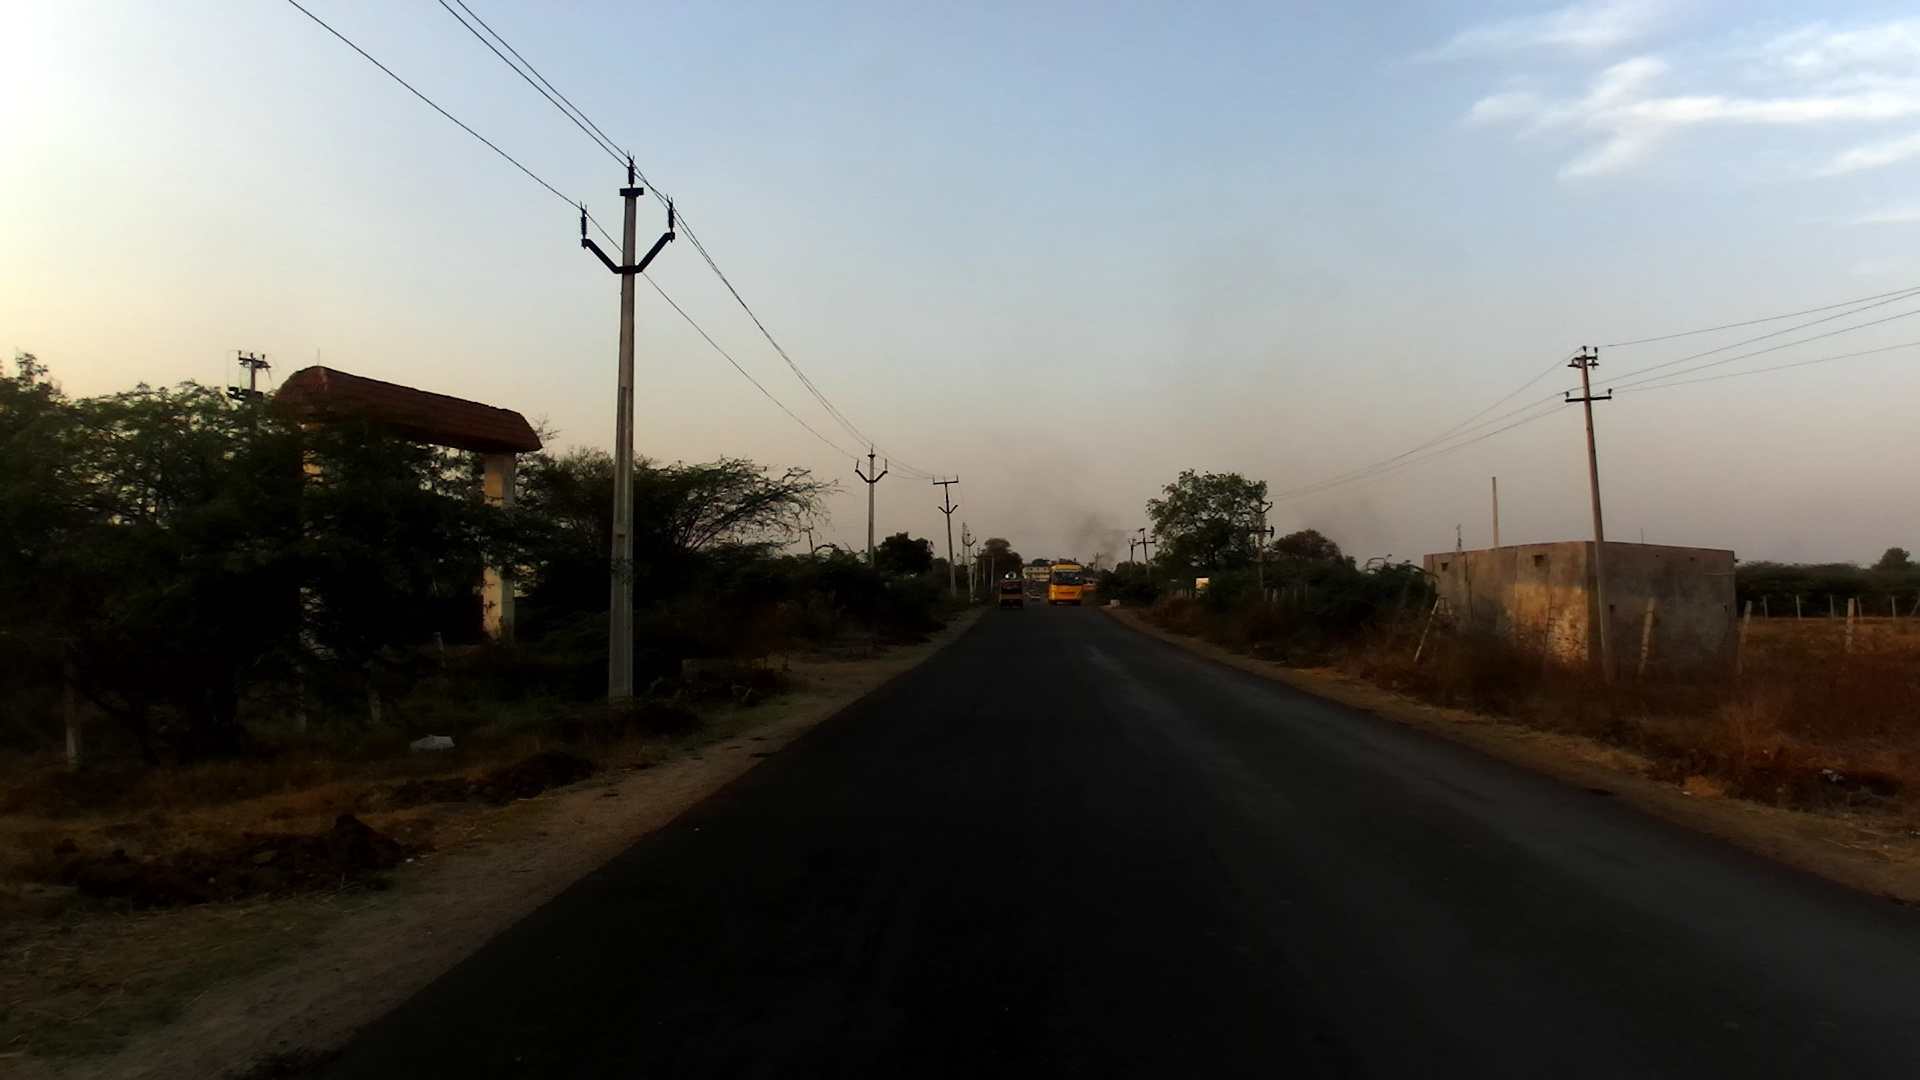autorickshaw: (998, 574, 1026, 612)
bus: (1046, 564, 1087, 609)
car: (1030, 591, 1040, 603), (1027, 588, 1038, 595)
